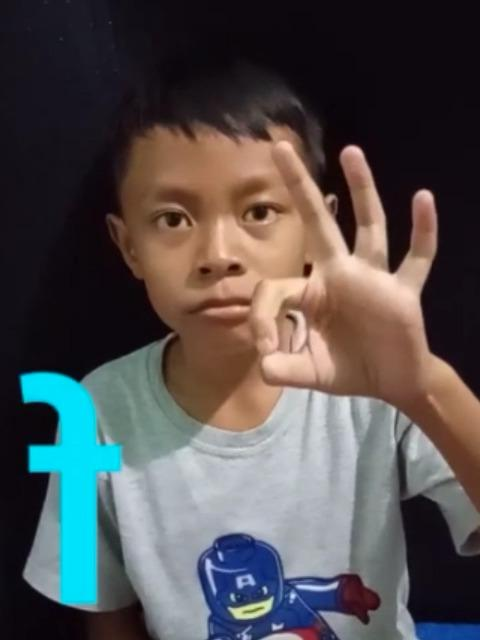F: (246, 136, 444, 398)
